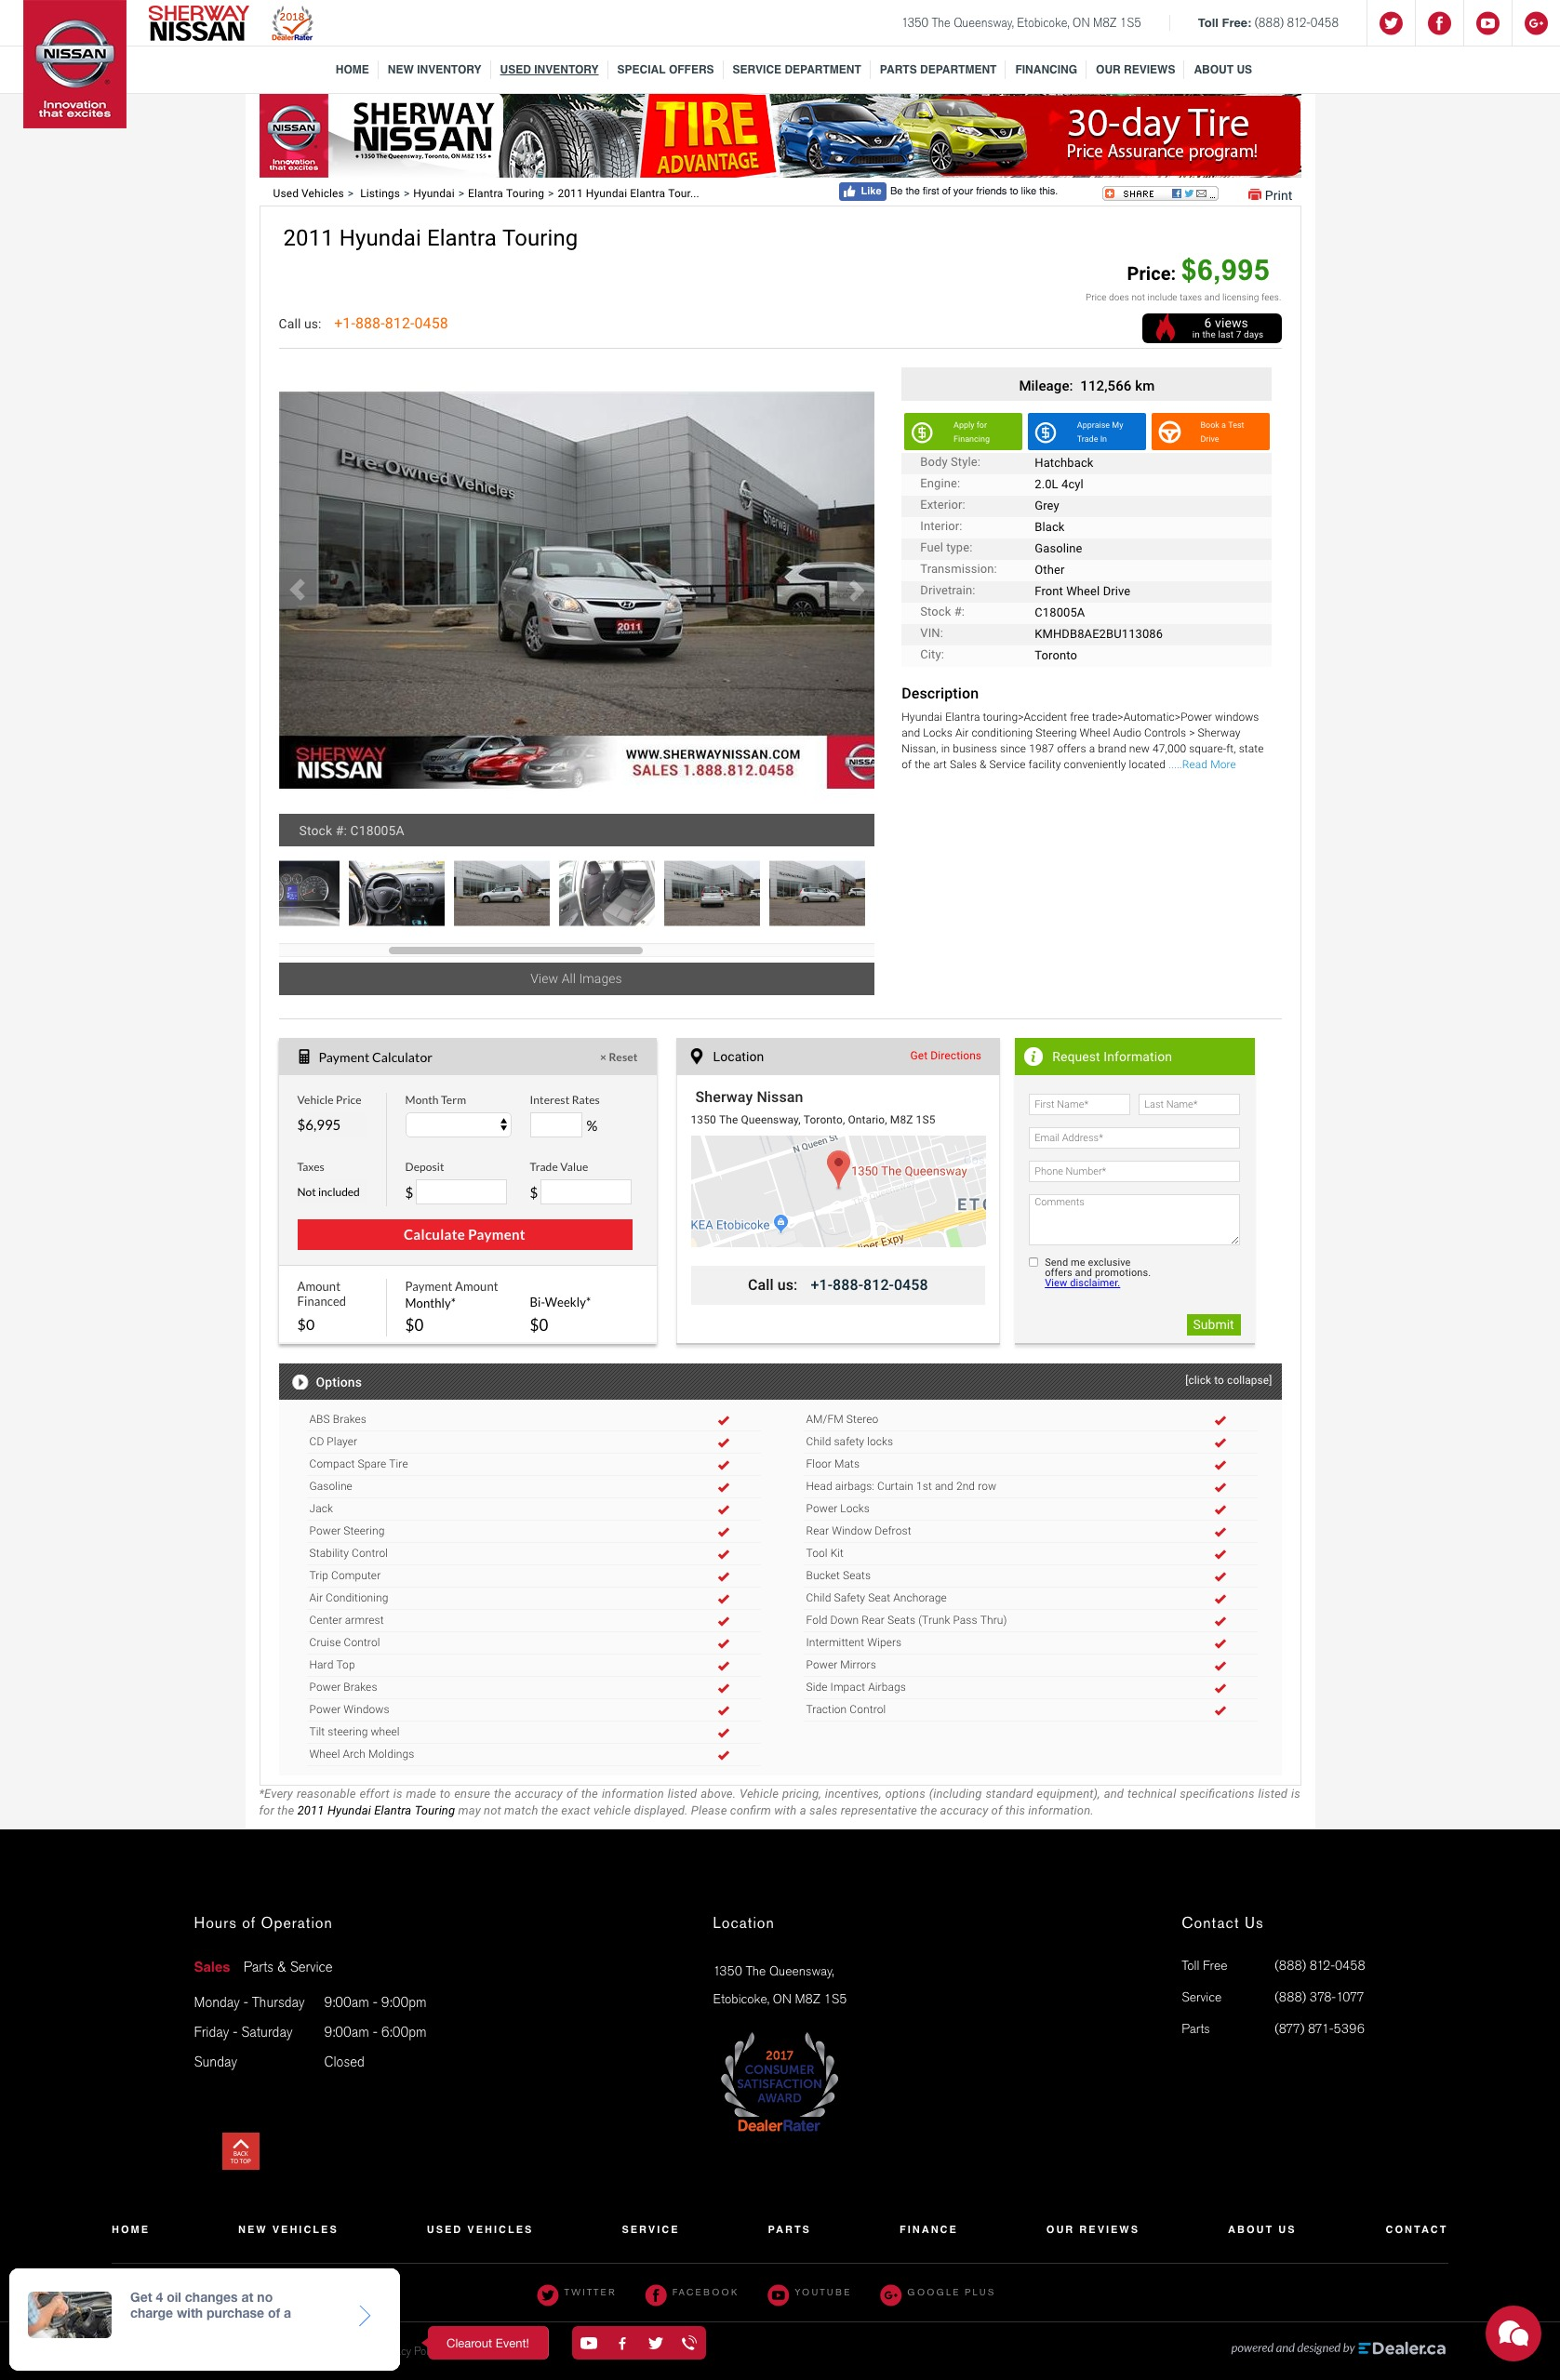car: (834, 569, 888, 623)
